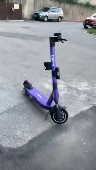beam: (21, 31, 71, 125)
